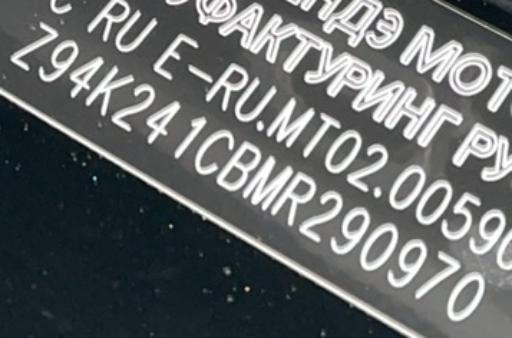letter: (268, 169, 318, 224), (296, 187, 344, 244), (412, 249, 464, 300), (10, 19, 60, 72), (214, 139, 262, 193), (133, 98, 181, 151), (242, 156, 292, 206), (84, 66, 134, 115), (112, 81, 160, 132), (357, 219, 401, 272), (386, 235, 430, 288), (446, 268, 490, 321), (166, 114, 212, 162), (331, 203, 371, 256), (190, 128, 236, 174), (37, 36, 81, 83), (64, 54, 108, 101)
